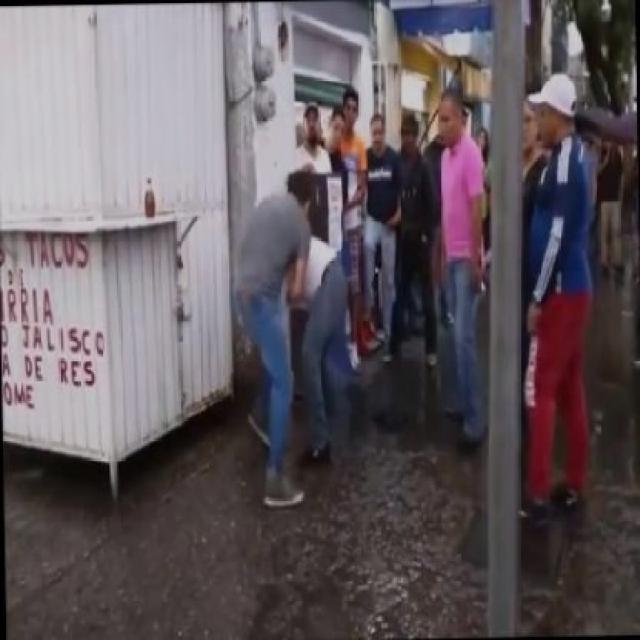fight: (228, 161, 369, 517)
non-fight: (514, 69, 638, 529), (425, 80, 500, 452)
